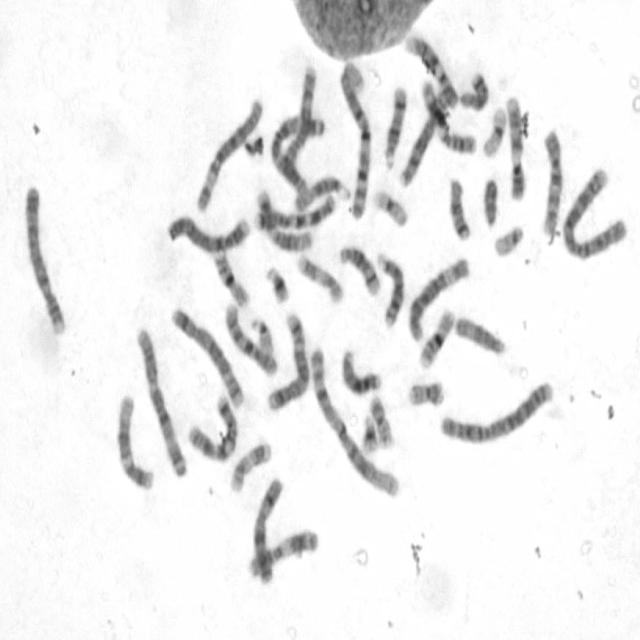A1: (308, 343, 400, 500), (337, 58, 372, 222)
A2: (435, 376, 555, 447), (558, 164, 629, 261)
A3: (133, 322, 189, 478), (268, 109, 326, 195)
B4: (21, 180, 67, 336), (163, 210, 252, 254)
B5: (168, 302, 245, 410), (264, 308, 311, 412)
C10: (221, 297, 279, 379), (537, 122, 565, 238)
C11: (420, 75, 478, 157), (245, 523, 320, 582)
C12: (113, 389, 157, 492), (247, 212, 315, 259)
C6: (192, 93, 264, 215), (404, 252, 471, 343)
C7: (184, 390, 239, 465), (252, 189, 336, 232)
C8: (396, 85, 456, 188), (282, 59, 319, 165)
C9: (402, 30, 459, 111), (505, 95, 525, 201)
D13: (374, 249, 405, 329), (338, 344, 383, 398)
D14: (338, 242, 382, 297), (381, 82, 408, 170)
D15: (292, 170, 351, 213), (452, 312, 508, 356)
E16: (416, 305, 455, 371), (210, 246, 250, 310)
E17: (294, 250, 345, 306), (226, 437, 274, 496)
E18: (446, 173, 472, 242), (457, 67, 491, 111)
F19: (370, 185, 410, 229), (480, 103, 508, 159)
F20: (366, 391, 395, 452), (405, 377, 445, 409)
G21: (263, 261, 291, 306), (357, 409, 380, 455)
G22: (490, 222, 524, 259), (248, 314, 275, 356)
X: (248, 473, 285, 585)
Y: (480, 175, 500, 227)
